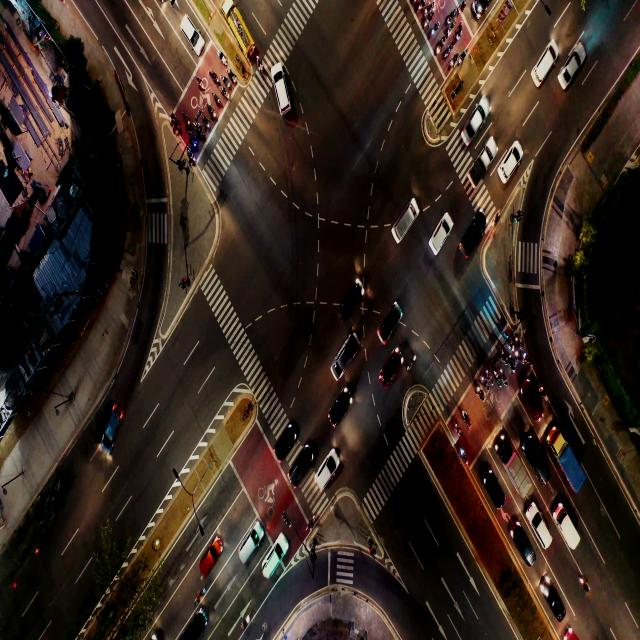bus: (230, 18, 244, 41)
car: (99, 413, 122, 450), (343, 280, 366, 315), (382, 349, 406, 382), (470, 102, 492, 134), (467, 222, 483, 260), (394, 210, 418, 235), (504, 148, 520, 178), (562, 58, 579, 86), (275, 70, 286, 111), (266, 544, 282, 572), (243, 528, 256, 562), (182, 23, 200, 47), (538, 48, 550, 84), (384, 312, 398, 340), (549, 590, 566, 613), (202, 546, 215, 576), (296, 450, 308, 481), (337, 392, 349, 423), (528, 388, 538, 420), (438, 216, 448, 247), (489, 474, 499, 505), (282, 430, 293, 457), (337, 348, 350, 370), (517, 536, 531, 556), (532, 450, 544, 470), (535, 519, 548, 537), (191, 619, 201, 636), (324, 464, 331, 486)
motorcycle: (194, 586, 207, 605), (242, 611, 252, 630), (451, 421, 462, 436), (409, 351, 417, 371), (510, 358, 516, 374), (172, 116, 179, 128), (221, 86, 227, 99), (258, 55, 262, 74), (187, 149, 193, 161), (464, 413, 470, 425), (477, 389, 483, 401), (221, 54, 226, 68), (460, 52, 465, 66), (451, 54, 458, 64), (183, 115, 189, 126), (461, 449, 466, 462), (438, 40, 443, 53), (208, 106, 214, 116), (214, 93, 220, 103), (212, 72, 216, 87), (502, 370, 506, 385), (458, 23, 462, 38), (448, 23, 454, 33), (427, 15, 432, 27), (427, 2, 432, 14), (203, 115, 208, 126), (418, 2, 423, 13), (190, 138, 196, 147), (482, 379, 487, 389), (487, 372, 492, 382), (228, 72, 234, 80), (502, 352, 506, 364), (518, 337, 522, 349), (450, 10, 456, 18), (432, 24, 436, 36), (198, 78, 202, 89), (509, 336, 513, 347), (223, 77, 228, 85), (519, 352, 523, 362), (446, 48, 450, 58), (496, 373, 499, 385), (541, 388, 545, 397), (527, 356, 530, 368), (198, 127, 202, 135), (462, 2, 465, 12)
truck: (474, 157, 488, 182), (564, 448, 576, 477), (511, 460, 520, 485), (562, 518, 570, 537)
